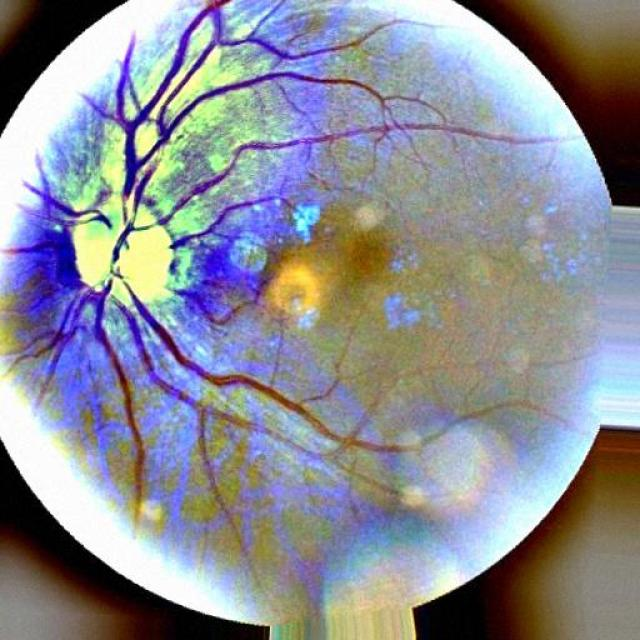Nerves: (1, 0, 549, 498)
Optic Disk: (70, 194, 172, 306)
